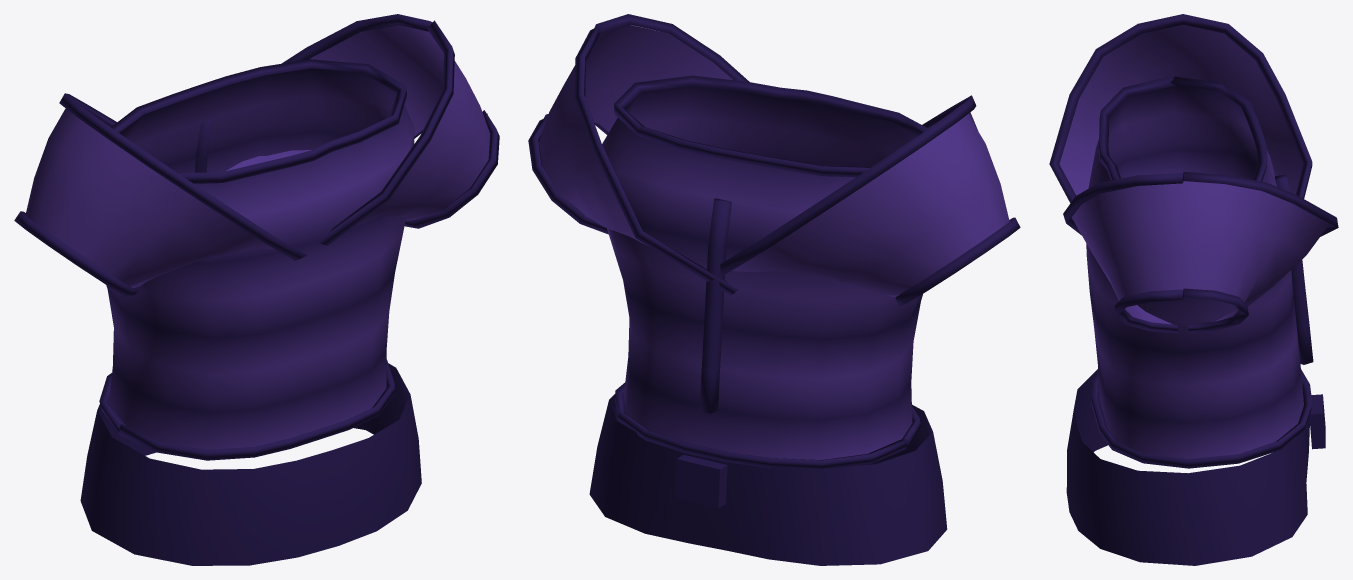
File: beetle_shell.glb
3 views of the same model, side by side, from view 1: azimuth 30°, elevation 25°; view 2: azimuth 150°, elevation 25°; view 3: azimuth 270°, elevation 25° (orthographic). The views are drawn at different scales.
Parts seen in each view (by area): view 1: beetle_shell_chest; view 2: beetle_shell_chest; view 3: beetle_shell_chest.
Boxes of the visible parts, x1,y1,x2,y2 form: beetle_shell_chest: [14, 14, 499, 565]; beetle_shell_chest: [528, 14, 1020, 565]; beetle_shell_chest: [1049, 14, 1338, 565].
Bounding box in the file's own units: 0.6477 × 0.592 × 0.3782.
